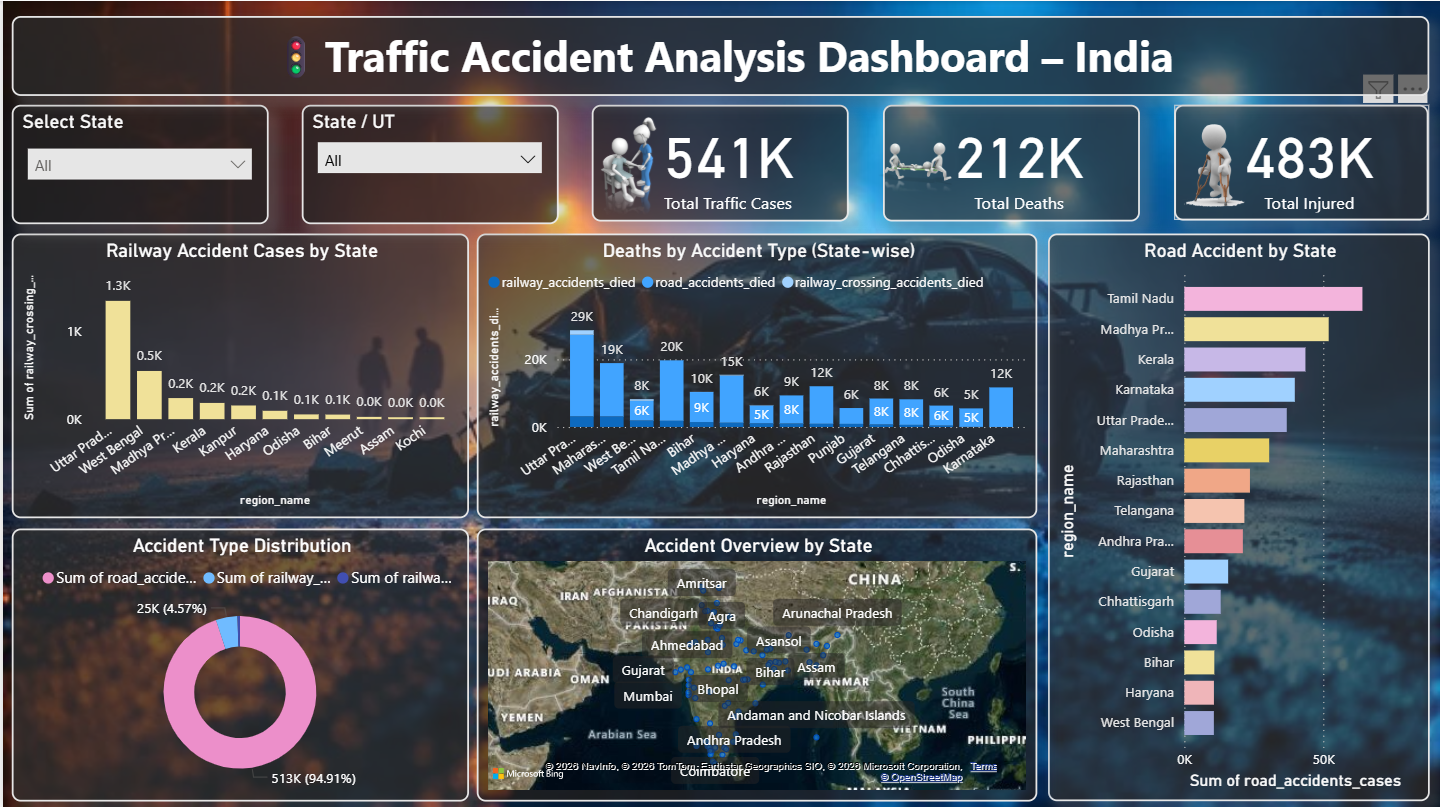

The page's visual inventory and layout, read from the dashboard file:
{"tool":"powerbi","page":{"name":"Traffic Accident Analysis – India","canvas":[1280,720],"ordinal":0},"visuals":[{"type":"card","title":"Total Accident Cases","fields":{"Values":["cleaned_traffic_accident_data_3.Total Traffic Cases"]},"box":[524.6,92.4,228.6,103.7],"z":0},{"type":"card","title":"Total Injured","fields":{"Values":["cleaned_traffic_accident_data_3.Total Injured"]},"box":[1043,91.9,226.7,103.5],"z":1000},{"type":"card","title":"Total Deaths","fields":{"Values":["cleaned_traffic_accident_data_3.Total Deaths"]},"box":[783.1,92.4,228.6,103.7],"z":2000},{"type":"barChart","title":"Road Accident by State","fields":{"Category":["cleaned_traffic_accident_data_3.region_name"],"Y":["Sum(cleaned_traffic_accident_data_3.road_accidents_cases)"]},"box":[930.5,207.3,339.7,505.9],"z":3000},{"type":"clusteredColumnChart","title":"Railway Accident Cases by State","fields":{"Category":["cleaned_traffic_accident_data_3.region_name"],"Y":["Sum(cleaned_traffic_accident_data_3.railway_crossing_accidents_cases)"]},"box":[7.5,207.3,407.2,253.6],"z":4000},{"type":"donutChart","title":"Accident Type Distribution","fields":{"Y":["Sum(cleaned_traffic_accident_data_3.road_accidents_cases)","Sum(cleaned_traffic_accident_data_3.railway_accidents_cases)","Sum(cleaned_traffic_accident_data_3.railway_crossing_accidents_cases)"]},"box":[7.5,469.6,407.2,243.6],"z":5000},{"type":"columnChart","title":"Deaths by Accident Type (State-wise)","fields":{"Category":["cleaned_traffic_accident_data_3.region_name"],"Y":["Sum(cleaned_traffic_accident_data_3.railway_accidents_died)","Sum(cleaned_traffic_accident_data_3.road_accidents_died)","Sum(cleaned_traffic_accident_data_3.railway_crossing_accidents_died)"]},"box":[422.1,207,498.8,253.5],"z":6000},{"type":"slicer","title":"Select State ","fields":{"Values":["cleaned_traffic_accident_data_3.region_name"]},"box":[7.5,92.4,228.6,106.2],"z":7000},{"type":"slicer","title":"State / UT","fields":{"Values":["cleaned_traffic_accident_data_3.region_type"]},"box":[266,92.4,228.6,106.2],"z":8000},{"type":"textbox","box":[7.5,13.7,1262.8,71.2],"z":9000},{"type":"map","title":"Accident Overview by State","fields":{"Category":["cleaned_traffic_accident_data_3.region_name"]},"box":[422.1,469.8,498.8,243],"z":10000},{"type":"image","box":[1030.3,85.7,83.2,121.9],"z":10001},{"type":"image","box":[516.4,97.7,80.8,97.7],"z":10002},{"type":"image","box":[774.5,92.9,82,109.8],"z":10003}]}

Visuals, with their boxes in screenshot pixels (x1, y1, x2, y2), scaled from the page's 1280x720 canvas onto the 1440x807 screenshot:
"Total Accident Cases" card: <region>590, 104, 847, 220</region>
"Total Injured" card: <region>1173, 103, 1428, 219</region>
"Total Deaths" card: <region>881, 104, 1138, 220</region>
"Road Accident by State" barChart: <region>1047, 232, 1429, 799</region>
"Railway Accident Cases by State" clusteredColumnChart: <region>8, 232, 467, 517</region>
"Accident Type Distribution" donutChart: <region>8, 526, 467, 799</region>
"Deaths by Accident Type (State-wise)" columnChart: <region>475, 232, 1036, 516</region>
"Select State " slicer: <region>8, 104, 266, 223</region>
"State / UT" slicer: <region>299, 104, 556, 223</region>
textbox: <region>8, 15, 1429, 95</region>
"Accident Overview by State" map: <region>475, 527, 1036, 799</region>
image: <region>1159, 96, 1253, 233</region>
image: <region>581, 110, 672, 219</region>
image: <region>871, 104, 964, 227</region>
